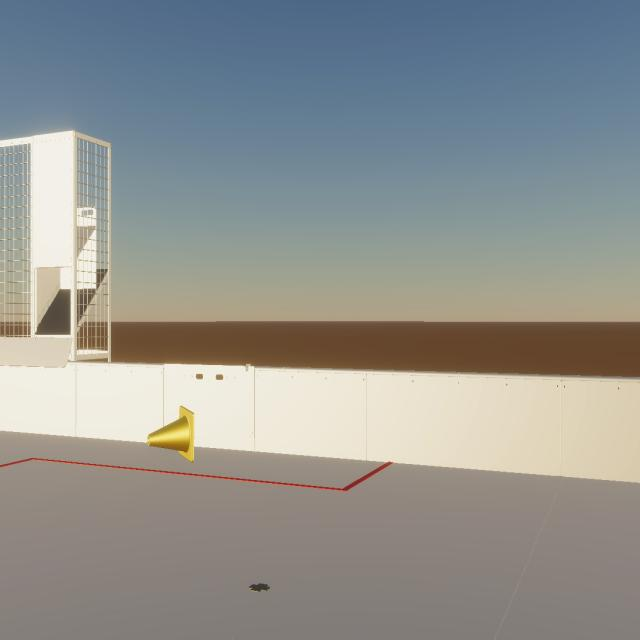frc_cone: (147, 405, 195, 463)
